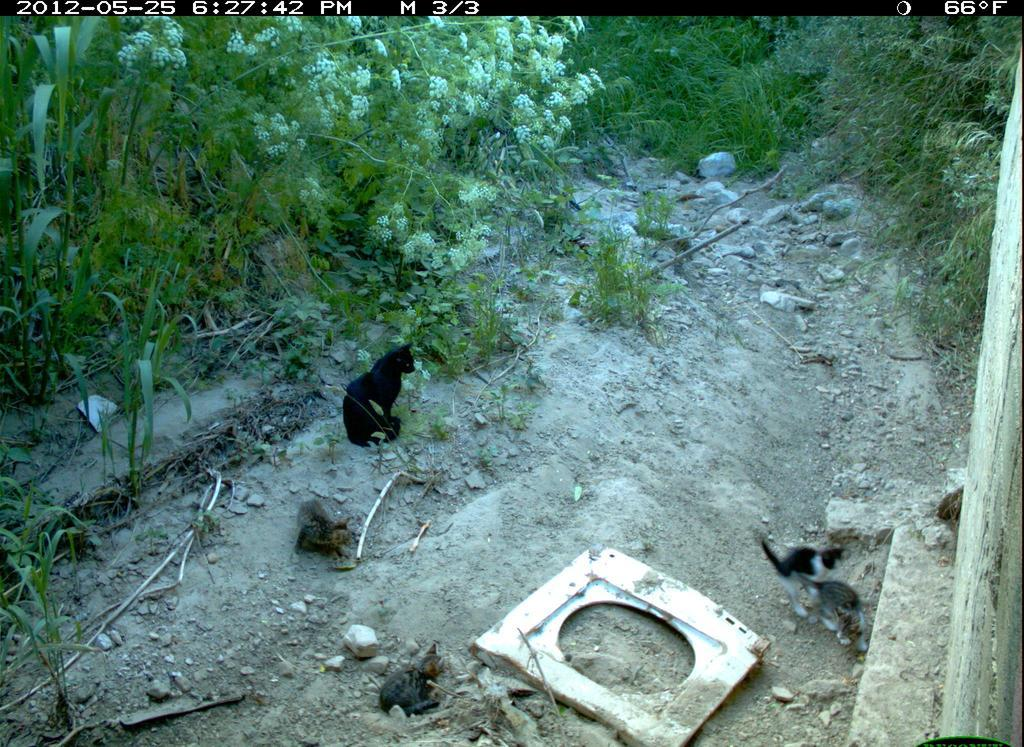cat: (337, 342, 424, 450), (751, 515, 857, 591), (376, 638, 465, 725), (286, 488, 367, 571), (808, 594, 882, 662)
